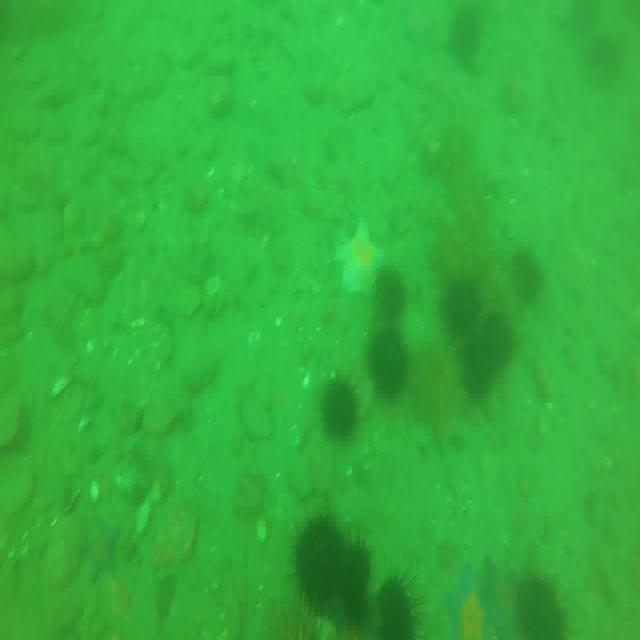echinus: (297, 511, 346, 610), (519, 571, 565, 640), (364, 330, 409, 397), (378, 571, 418, 640), (321, 374, 359, 438), (586, 30, 626, 90), (446, 272, 481, 340), (481, 307, 515, 374), (446, 8, 482, 69), (345, 525, 373, 600), (371, 270, 408, 324), (458, 338, 494, 391), (514, 248, 542, 309)
scallop: (135, 499, 154, 538), (48, 376, 74, 397), (256, 519, 267, 542), (207, 276, 221, 294), (89, 479, 100, 500)
starfish: (446, 557, 500, 640), (333, 220, 383, 302), (82, 506, 120, 580)
